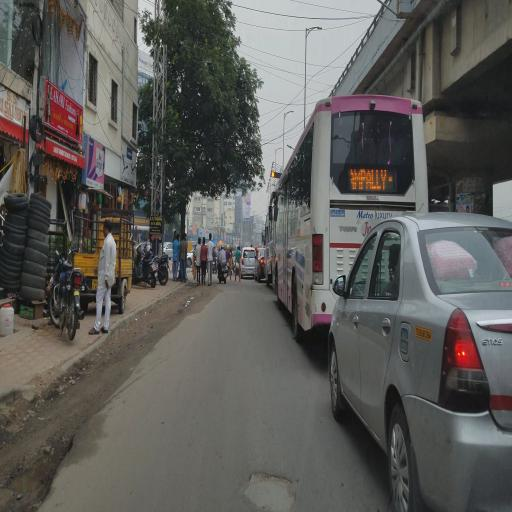street_light_0: (303, 14, 328, 40), (281, 105, 297, 124), (274, 144, 284, 154)
